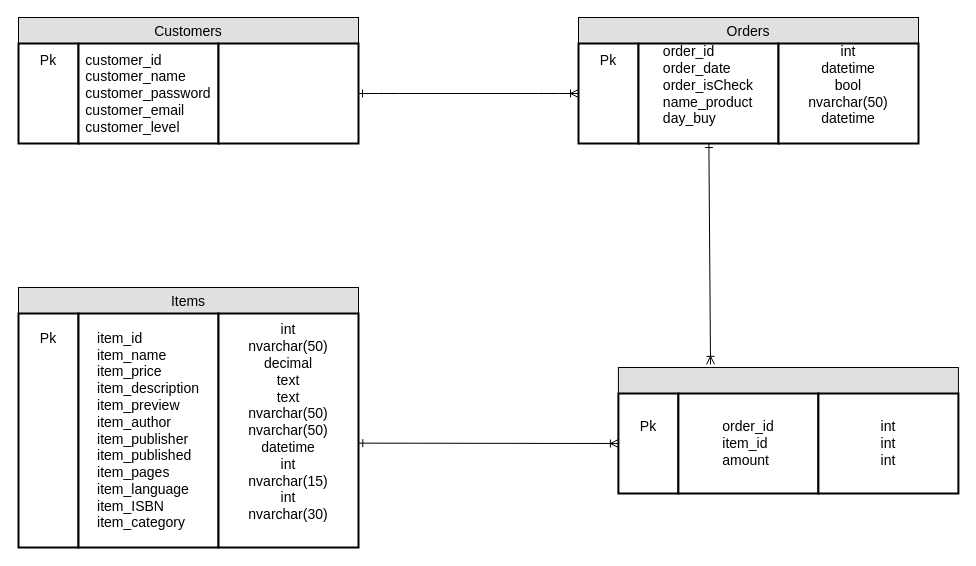
Some shapes in this 976 by 566 pixel diagram are drawn without their labels. The centre of each missing label's shape, as x and y in pixels:
"int nvarchar(50) varchar(50) varchar(50) int" goes at point 288,93.
"Order_details" goes at point 787,380.
